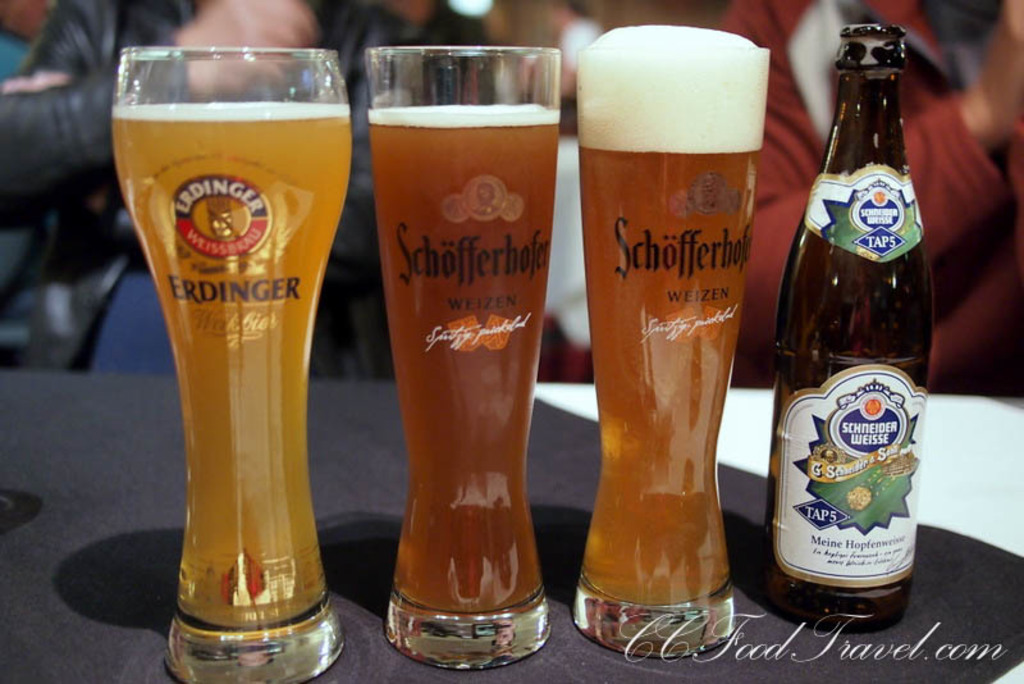Beer: (106, 43, 349, 684), (568, 19, 775, 665), (365, 43, 566, 673), (762, 17, 937, 631)
